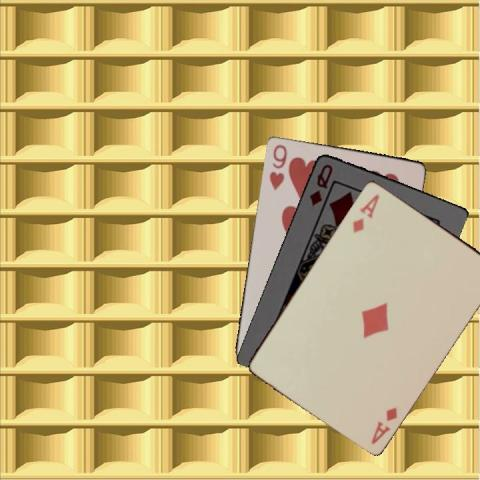9h: (266, 140, 289, 190)
Ad: (350, 191, 382, 234), (368, 404, 399, 446)
Qd: (305, 161, 334, 207)
